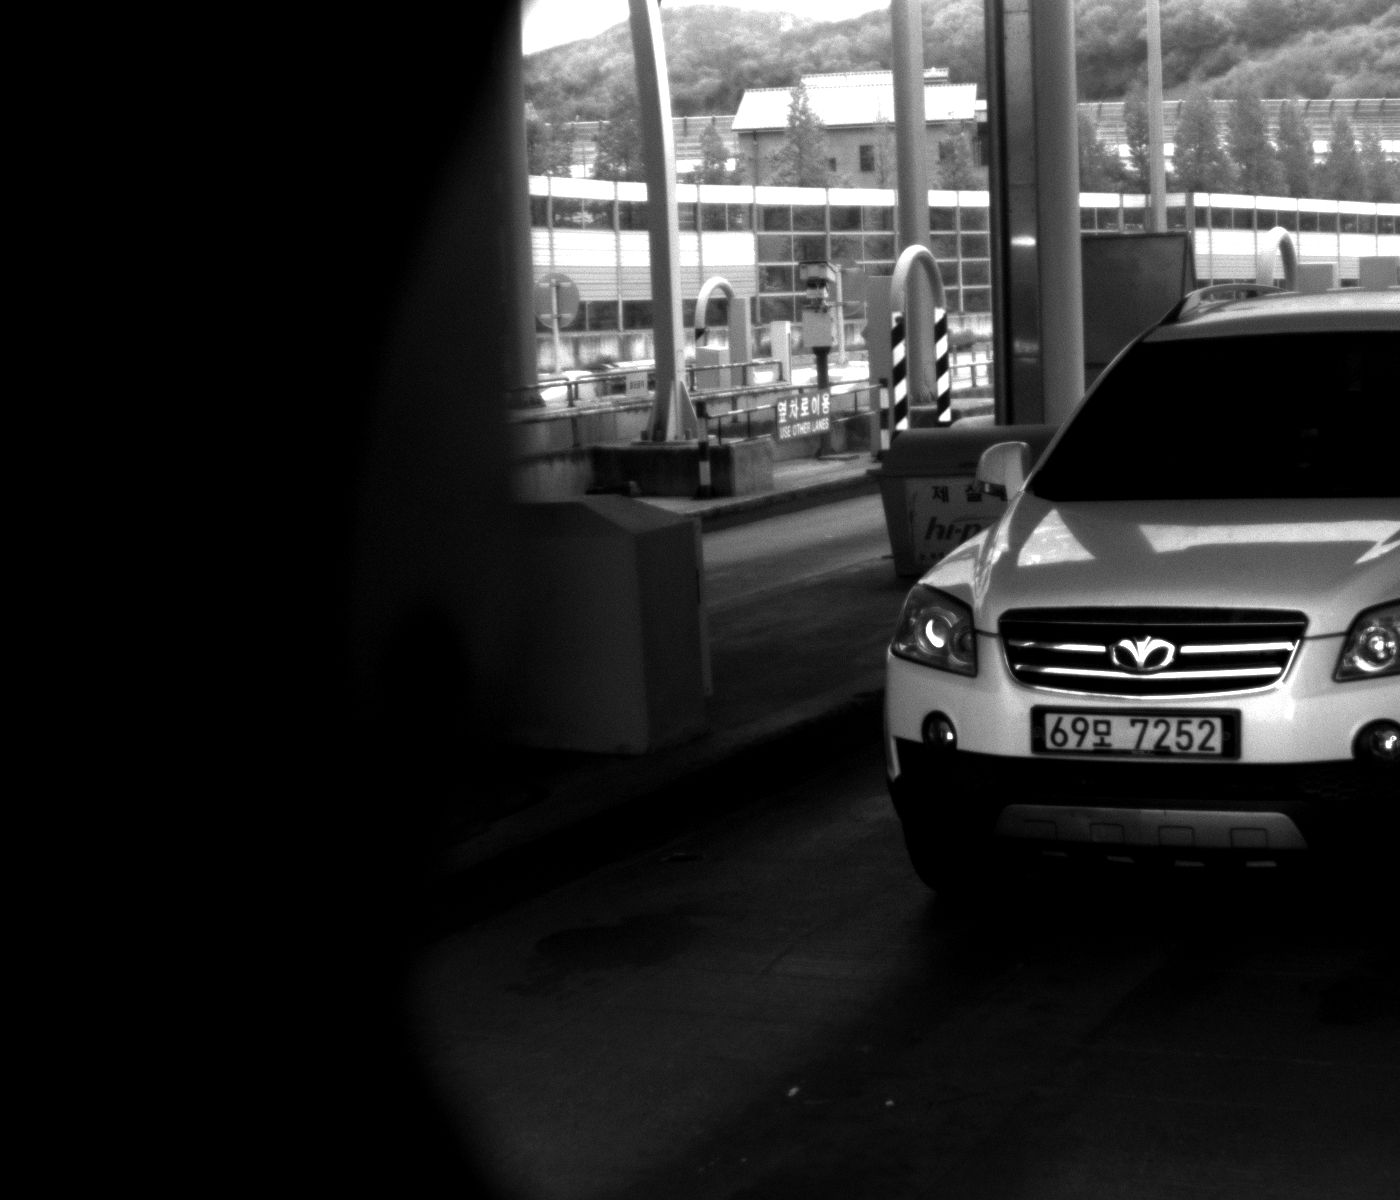car: (887, 287, 1400, 905)
plate: (1031, 705, 1233, 761)
